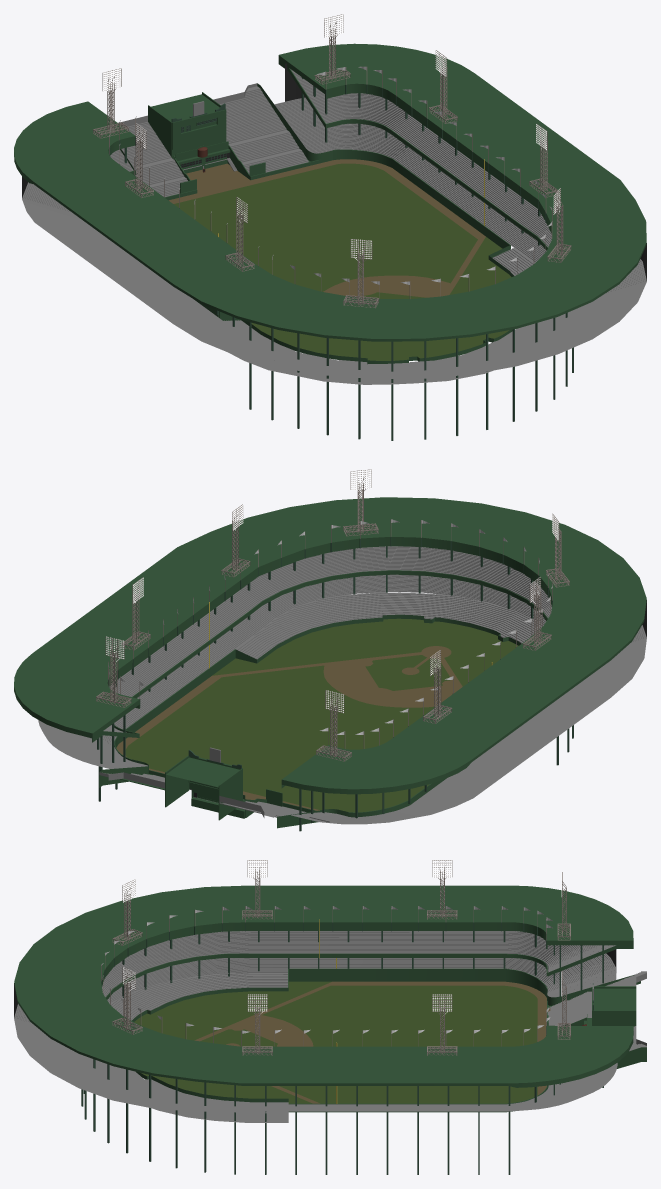
File: Stadium_POLO.glb
3 renders of one model, top to bottom at view 1: azimuth 30°, elevation 25°; view 2: azimuth 150°, elevation 25°; view 3: azimuth 270°, elevation 25°, orthographic. The views are drawn at different scales.
Visible parts, largest first — view 1: PoloGroundsMain, LowerSeating, PoloGroundsMain.114, UpperSeating, PoloGroundsMain.112, PoloGroundsMain.053; view 2: PoloGroundsMain, LowerSeating, UpperSeating, PoloGroundsMain.114, PoloGroundsMain.112, PoloGroundsMain.053; view 3: PoloGroundsMain, LowerSeating, UpperSeating, PoloGroundsMain.114, PoloGroundsMain.112, PoloGroundsMain.053.
Part boxes in pixels (box(x1,y1,x2,y2)): PoloGroundsMain: box(14, 43, 646, 364); LowerSeating: box(22, 63, 646, 384); PoloGroundsMain.114: box(93, 14, 571, 308); UpperSeating: box(110, 69, 551, 247); PoloGroundsMain.112: box(124, 77, 573, 440); PoloGroundsMain.053: box(109, 66, 552, 299); PoloGroundsMain: box(14, 497, 646, 828); LowerSeating: box(38, 574, 646, 824); UpperSeating: box(103, 546, 551, 732); PoloGroundsMain.114: box(96, 469, 569, 761); PoloGroundsMain.112: box(97, 546, 573, 831); PoloGroundsMain.053: box(108, 519, 552, 748); PoloGroundsMain: box(14, 885, 646, 1112); LowerSeating: box(14, 949, 617, 1122); UpperSeating: box(102, 931, 615, 996); PoloGroundsMain.114: box(112, 860, 570, 1055); PoloGroundsMain.112: box(81, 931, 603, 1174); PoloGroundsMain.053: box(101, 905, 552, 1046).
Size of the model in its own units: 172 by 72.75 by 233.
